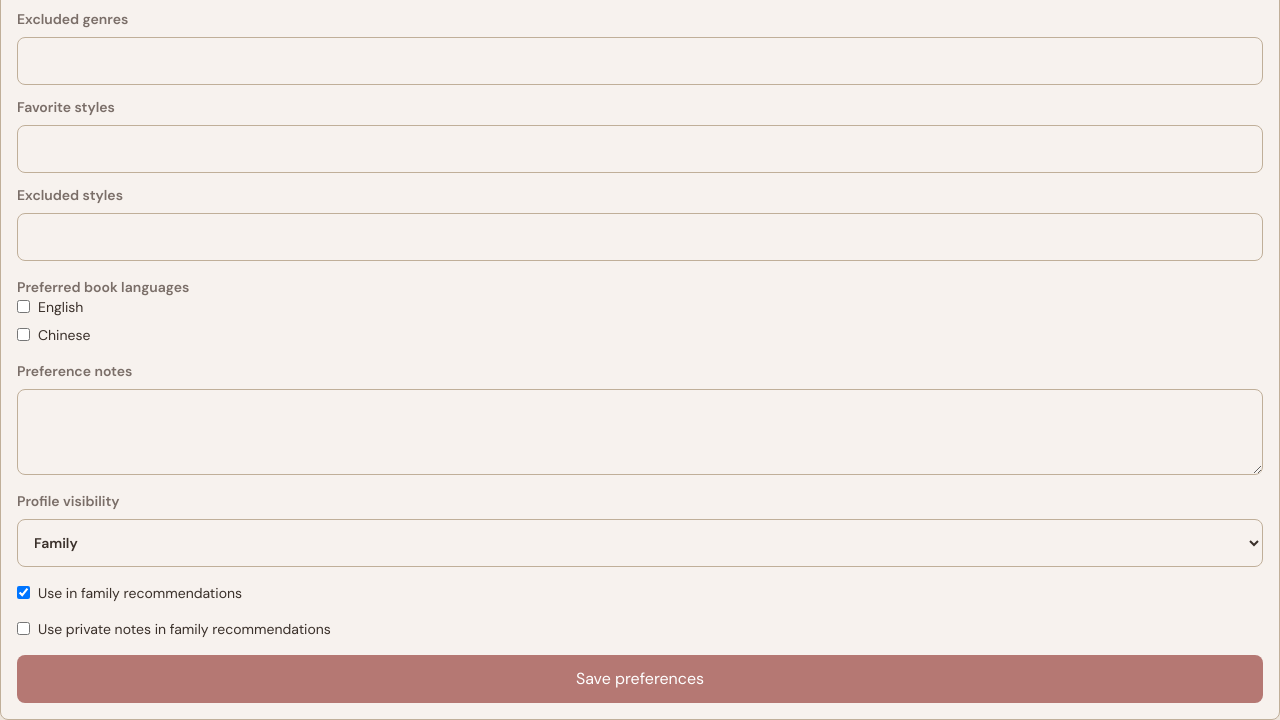
RecommendationProfileSection › creates an empty profile after a 404 and sends explicit clears
The width and height of the screenshot is (1280, 720).
(page scrolled)
Type "Enjoys stories." into the text box labelled "Preference notes" at (640, 432), box left=17, top=389, right=1263, bottom=475
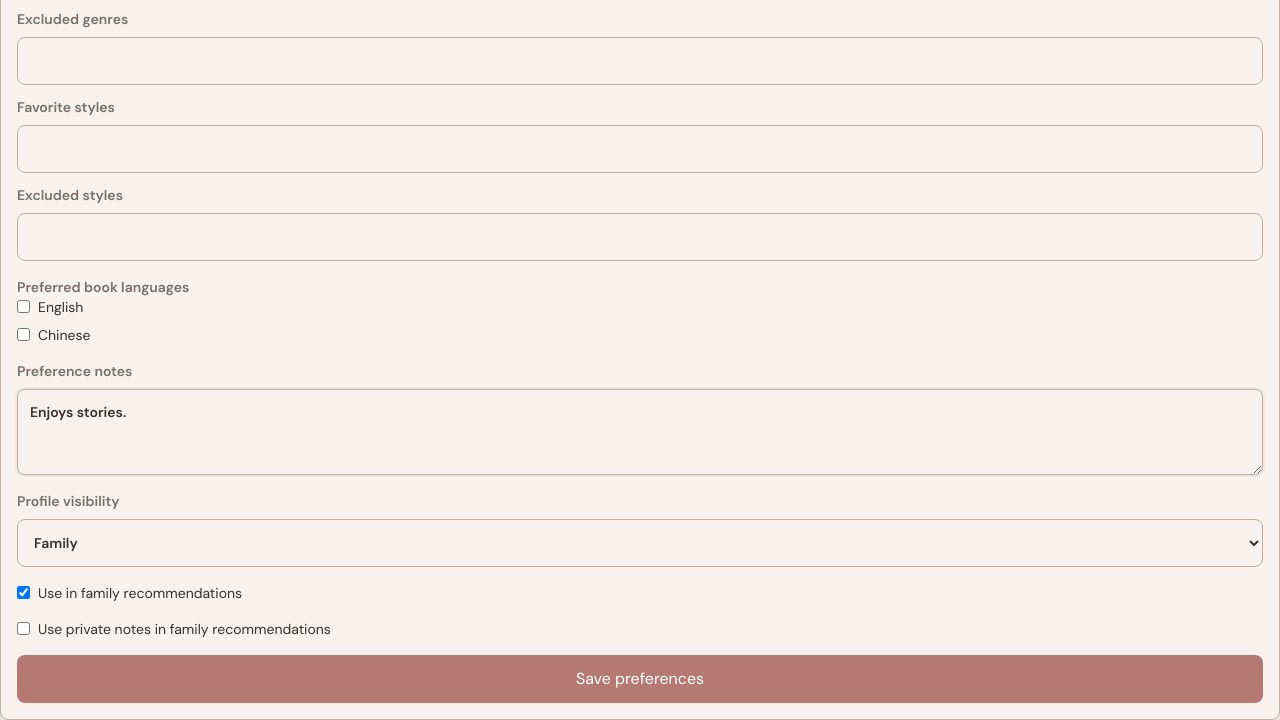
Click the button "Save preferences" at (640, 679), box left=17, top=655, right=1263, bottom=703
(page scrolled)
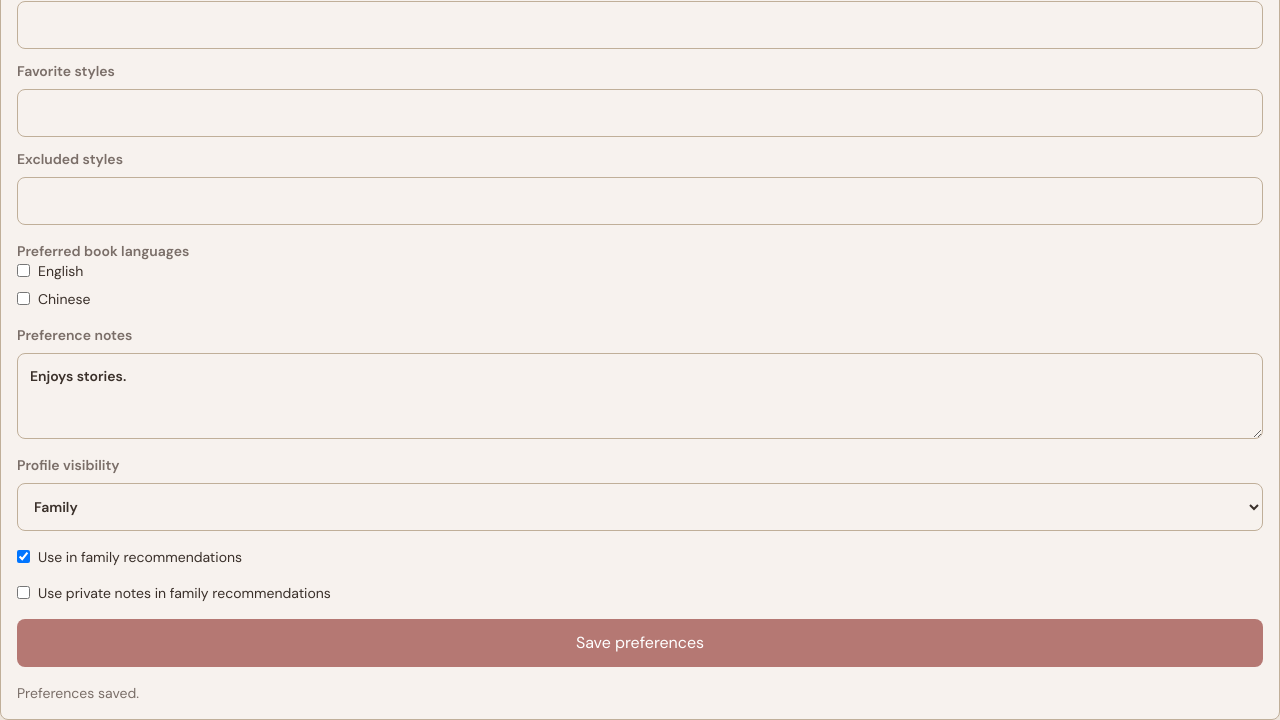
Now the message shows "saved", box left=17, top=684, right=139, bottom=702
